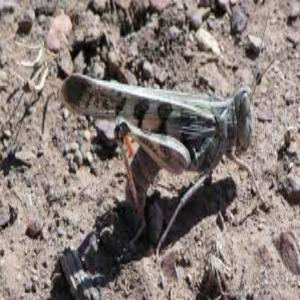locust: (61, 68, 269, 167)
